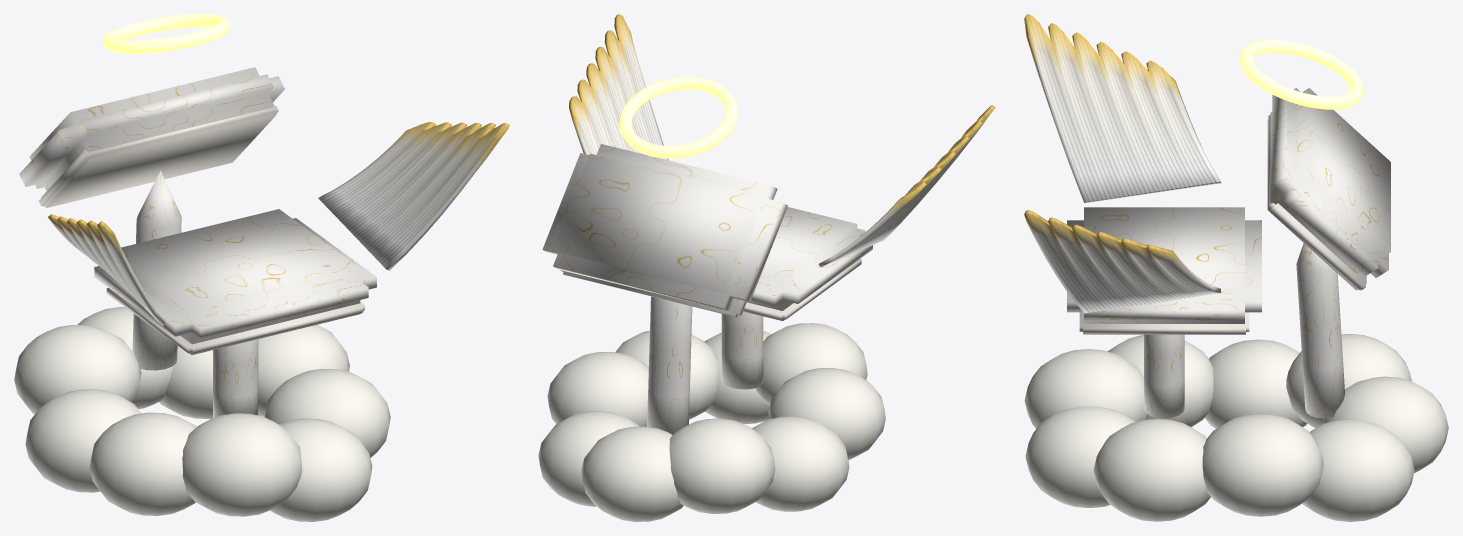
The model's file is AngelicBench.glb.
The picture shows the model from 3 angles, left to right: view 1: azimuth 30°, elevation 25°; view 2: azimuth 150°, elevation 25°; view 3: azimuth 270°, elevation 25°; orthographic projection. The views are drawn at different scales.
Visible parts, largest first — view 1: AngelicBench, AngelicBench_Glow; view 2: AngelicBench, AngelicBench_Glow; view 3: AngelicBench, AngelicBench_Glow.
Boxes of the visible parts, bbox=[...] form: AngelicBench: bbox=[14, 67, 509, 521]; AngelicBench_Glow: bbox=[102, 14, 230, 53]; AngelicBench: bbox=[538, 14, 995, 521]; AngelicBench_Glow: bbox=[619, 76, 737, 158]; AngelicBench: bbox=[1024, 14, 1448, 521]; AngelicBench_Glow: bbox=[1239, 39, 1363, 109].
Size of the model in its own units: 4.03 by 4.06 by 3.63.
Materials: 2 (1 with a texture image).
